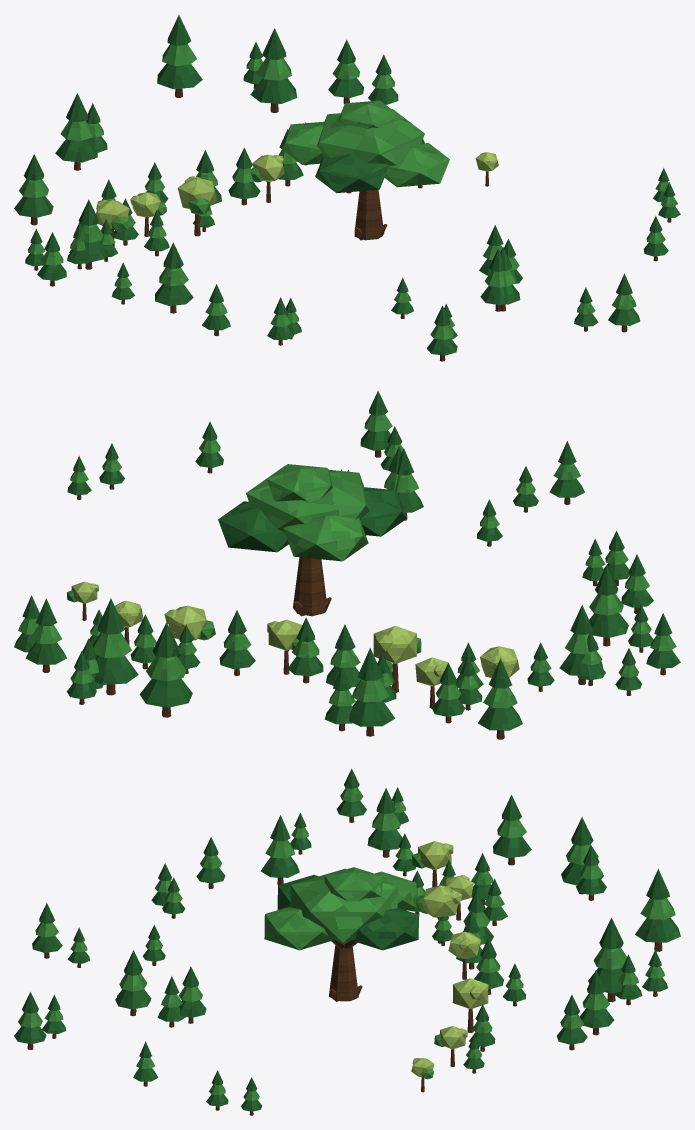
File: island_vegetation.glb
3 views of the same model, one above another, from view 1: azimuth 30°, elevation 25°; view 2: azimuth 150°, elevation 25°; view 3: azimuth 270°, elevation 25° (orthographic). The views are drawn at different scales.
Visible parts, largest first — view 1: Peepal.001, Pine.120, Pine.155, Pine.126, Pine.151, Pine.147, VIRound.01, Pine.128, Pine.143, Pine.136, Pine.111, Pine.164 (+13 smaller); view 2: Peepal.001, Pine.155, Pine.120, Pine.126, Pine.151, Pine.147, VIRound.01, Pine.143, Pine.128, VIRound.03, Pine.111, VIPineX.02 (+29 smaller); view 3: Peepal.001, Pine.155, Pine.120, Pine.151, Pine.147, Pine.128, Pine.167, Pine.143, Pine.126, VIRound.01, VIRound.03, VIRound.00 (+22 smaller).
Boxes of the visible parts, <box> form: Peepal.001: <box>281,100,449,240</box>; Pine.120: <box>250,28,296,112</box>; Pine.155: <box>157,15,202,97</box>; Pine.126: <box>55,93,97,170</box>; Pine.151: <box>14,154,53,225</box>; Pine.147: <box>155,242,193,313</box>; VIRound.01: <box>177,176,217,236</box>; Pine.128: <box>69,199,107,269</box>; Pine.143: <box>328,39,363,103</box>; Pine.136: <box>608,273,640,332</box>; Pine.111: <box>228,147,260,205</box>; Pine.164: <box>426,305,457,361</box>; Peepal.001: <box>218,464,407,616</box>; Pine.155: <box>139,622,192,717</box>; Pine.120: <box>92,598,138,695</box>; Pine.126: <box>349,648,395,736</box>; Pine.151: <box>478,658,522,739</box>; Pine.147: <box>589,565,628,646</box>; VIRound.01: <box>373,626,421,692</box>; Pine.143: <box>25,598,66,672</box>; Pine.128: <box>559,605,603,684</box>; VIRound.03: <box>164,605,215,668</box>; Pine.111: <box>287,617,323,683</box>; VIPineX.02: <box>219,610,255,675</box>; Peepal.001: <box>264,867,418,1001</box>; Pine.155: <box>635,869,680,951</box>; Pine.120: <box>588,917,626,1002</box>; Pine.151: <box>493,795,531,865</box>; Pine.147: <box>261,815,299,885</box>; Pine.128: <box>367,788,402,857</box>; Pine.167: <box>115,952,150,1015</box>; Pine.143: <box>579,970,614,1035</box>; Pine.126: <box>561,817,603,894</box>; VIRound.01: <box>416,885,461,943</box>; VIRound.03: <box>452,978,488,1032</box>; VIRound.00: <box>412,841,453,887</box>.
Size of the model in its own units: 56.08 by 13.33 by 55.78.
Materials: 1 (1 with a texture image).
